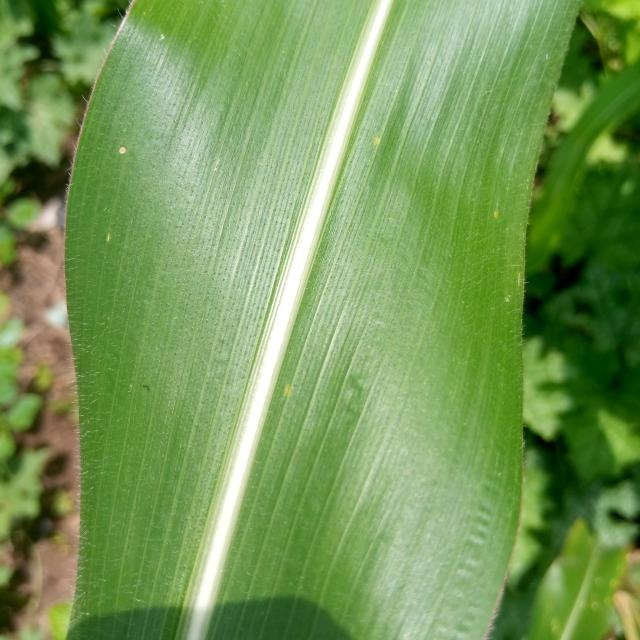healthy-maize: (142, 86, 478, 615)
